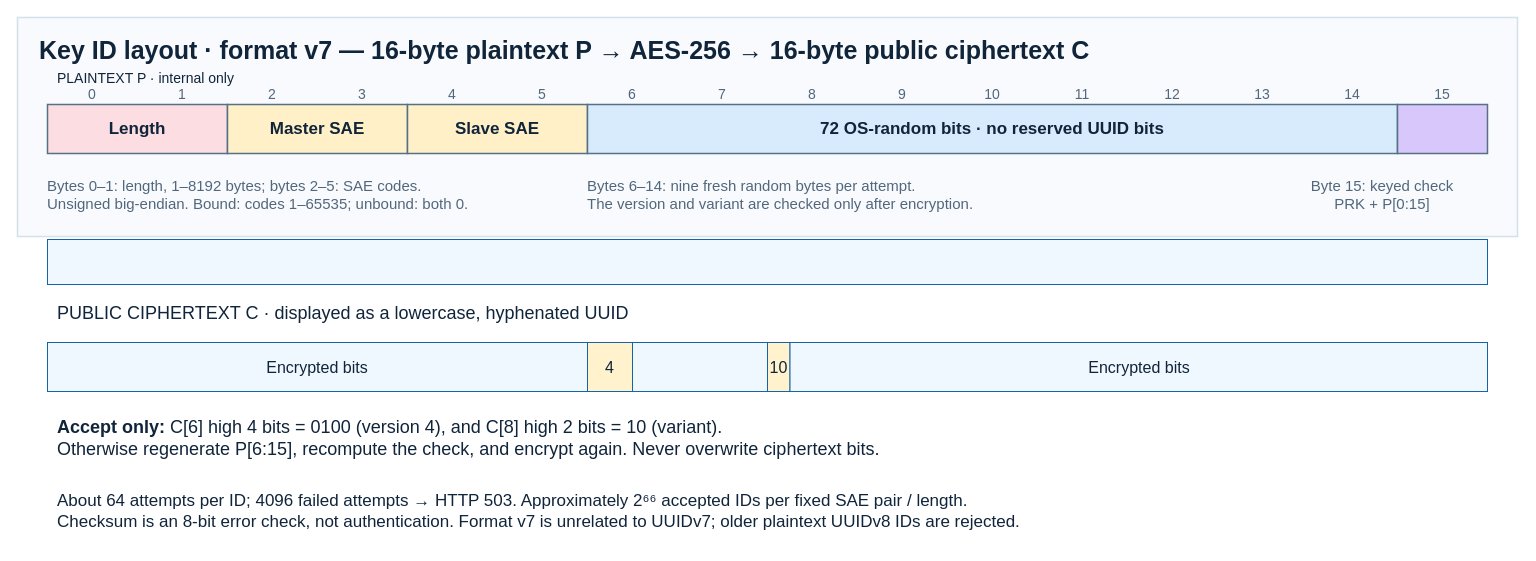
The diagram is 1536 pixels wide and 561 high, and some of its shapes have lost their labels. Each missing label, with the centre of its shape:
"Check" goes at (x=1442, y=128).
"Encrypted" goes at (x=700, y=367).
"↓ AES-256 encrypts the entire block using the PSK-derived AES key ↓" goes at (x=767, y=261).
